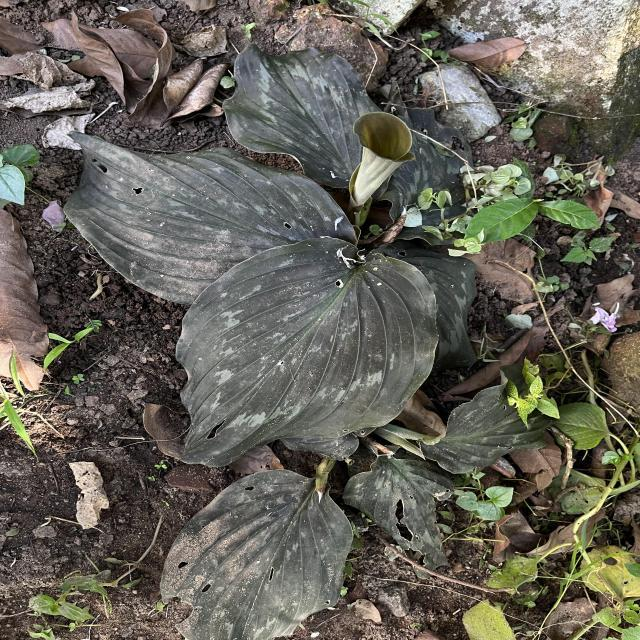Kaempferia galanga linn: (172, 236, 441, 469), (61, 126, 360, 307), (158, 466, 356, 640), (218, 39, 386, 191)
